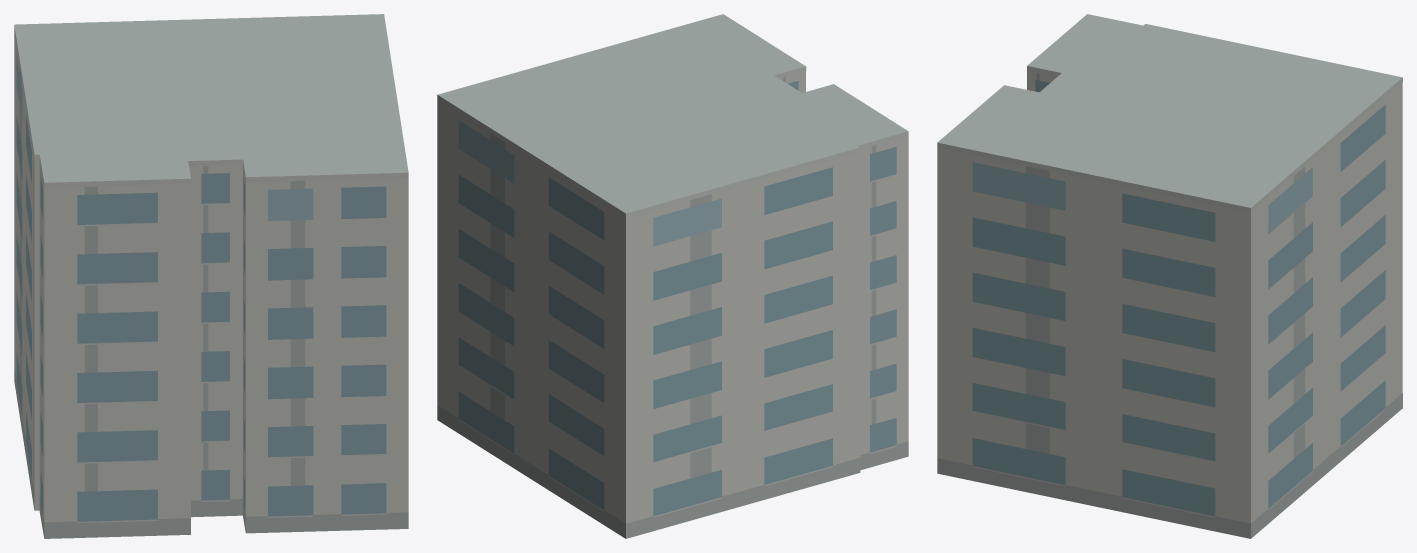
Rendered from survey-upis-32884366.glb.
3 views of the same model, side by side, from view 1: azimuth 30°, elevation 25°; view 2: azimuth 150°, elevation 25°; view 3: azimuth 270°, elevation 25° (orthographic). The views are drawn at different scales.
Visible parts, largest first — view 1: survey-upis-32884366.tmp; view 2: survey-upis-32884366.tmp; view 3: survey-upis-32884366.tmp.
Boxes of the visible parts, <box> form: survey-upis-32884366.tmp: <box>14,14,408,538</box>; survey-upis-32884366.tmp: <box>437,14,908,538</box>; survey-upis-32884366.tmp: <box>937,14,1402,538</box>.
Bounding box in the file's own units: 20.69 × 16.45 × 20.98.
